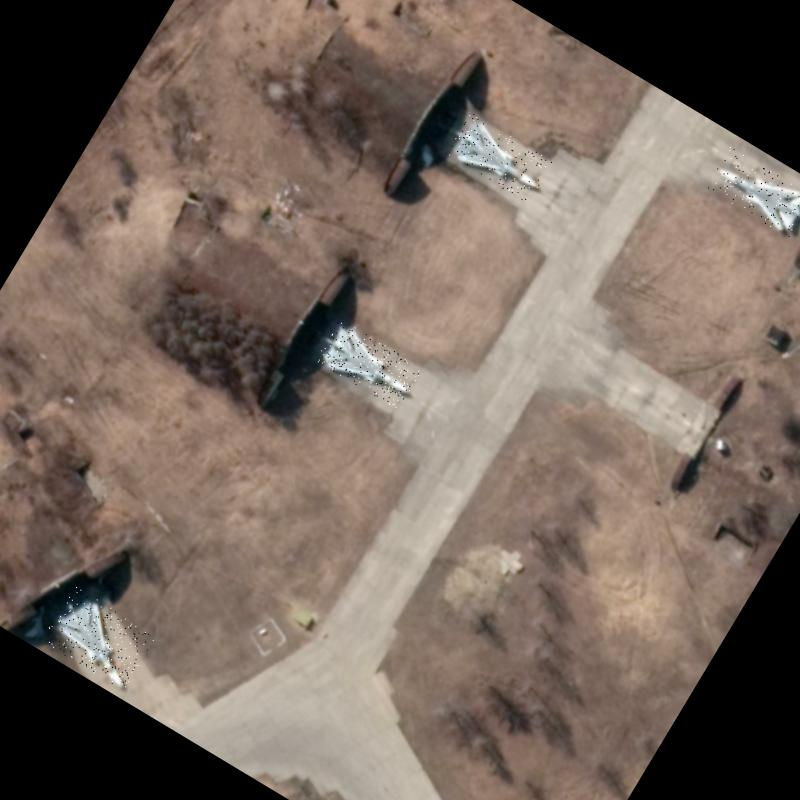A20: (40, 585, 156, 691), (445, 112, 553, 204), (314, 318, 422, 410), (704, 146, 800, 238)
